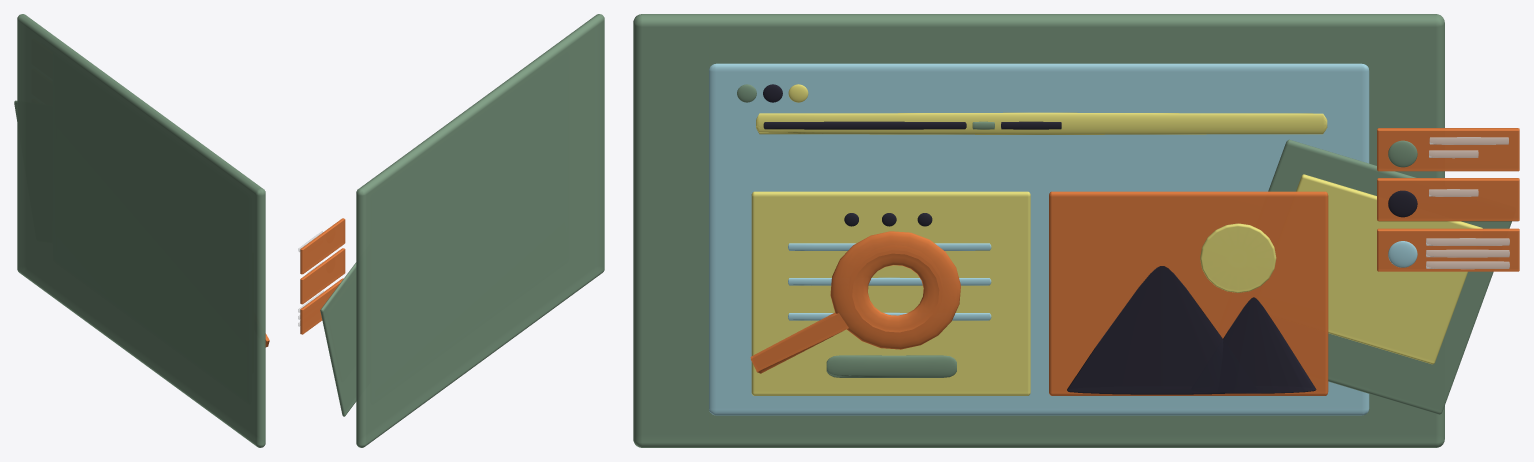
Rendered from website-transformed.glb.
3 views of the same model, side by side, from view 1: azimuth 30°, elevation 25°; view 2: azimuth 150°, elevation 25°; view 3: azimuth 270°, elevation 25° (orthographic). The views are drawn at different scales.
Visible parts, largest first — view 1: pCube1; view 2: pCube1, pCube5, pCube9, pCube7, pCube8; view 3: pCube1, pCube2, pCube3, pCube4, pCone3, pCube6, pCube5, pTorus1, pCylinder2, pCube7, pCube9, pCube8 (+5 smaller).
Part boxes in pixels (bbox=[...]): pCube1: bbox=[17, 14, 265, 447]; pCube1: bbox=[356, 14, 604, 447]; pCube5: bbox=[320, 262, 356, 416]; pCube9: bbox=[300, 218, 345, 274]; pCube7: bbox=[300, 248, 345, 304]; pCube8: bbox=[300, 278, 343, 334]; pCube1: bbox=[633, 14, 1444, 447]; pCube2: bbox=[709, 63, 1369, 415]; pCube3: bbox=[751, 191, 1030, 395]; pCube4: bbox=[1049, 191, 1328, 395]; pCone3: bbox=[1067, 266, 1316, 394]; pCube6: bbox=[1296, 174, 1482, 364]; pCube5: bbox=[1268, 139, 1511, 414]; pTorus1: bbox=[750, 231, 960, 373]; pCylinder2: bbox=[756, 112, 1327, 134]; pCube7: bbox=[1377, 178, 1519, 221]; pCube9: bbox=[1377, 128, 1519, 171]; pCube8: bbox=[1377, 228, 1519, 271].
Bounding box in the file's own units: 0.0152 × 0.0777 × 0.1444.
